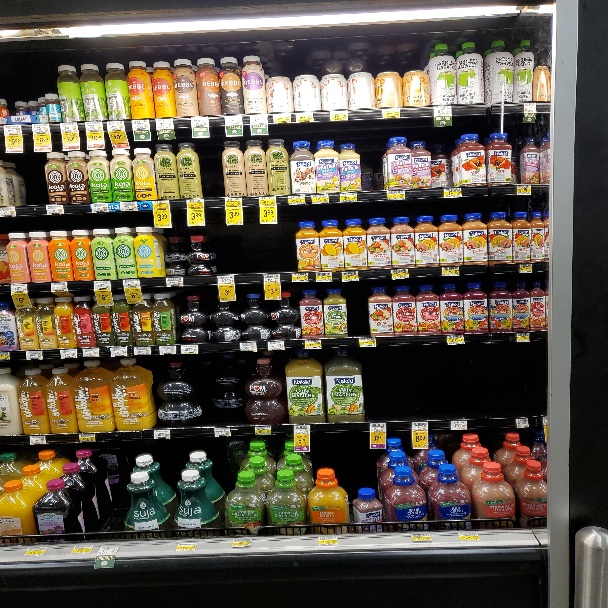All PRICE TAGS: (175, 542, 197, 553), (230, 539, 253, 549), (315, 535, 339, 544), (97, 545, 118, 555), (433, 105, 452, 115), (458, 532, 479, 541), (191, 117, 209, 127), (28, 546, 44, 557), (155, 119, 174, 128), (130, 120, 149, 129), (84, 121, 103, 130), (106, 120, 125, 129), (250, 114, 267, 124), (411, 532, 432, 540), (186, 198, 204, 207), (120, 202, 138, 211), (225, 116, 243, 125), (73, 545, 91, 554), (60, 122, 78, 131), (12, 283, 28, 293), (412, 421, 429, 430), (239, 342, 256, 351), (181, 344, 198, 353), (391, 269, 408, 278), (315, 271, 332, 280), (263, 273, 280, 282), (274, 113, 291, 122), (446, 335, 464, 343), (305, 339, 321, 348), (342, 271, 358, 280), (289, 195, 305, 204), (382, 108, 400, 116), (330, 111, 348, 119), (295, 112, 313, 120), (450, 421, 467, 429), (254, 426, 271, 434), (214, 427, 231, 435), (29, 436, 46, 444), (60, 349, 77, 357), (291, 272, 308, 280), (217, 275, 234, 283), (166, 277, 183, 285), (444, 189, 461, 197), (388, 191, 405, 199), (340, 193, 357, 201), (92, 204, 109, 212), (46, 205, 63, 213), (32, 124, 49, 132), (294, 425, 309, 434), (523, 103, 538, 112), (359, 338, 375, 346), (159, 345, 175, 353), (134, 346, 150, 354), (111, 347, 127, 355), (26, 351, 42, 359), (443, 267, 459, 275), (124, 279, 140, 287), (95, 281, 111, 289), (51, 282, 67, 290), (516, 419, 530, 428), (371, 423, 386, 431), (154, 430, 169, 438), (269, 341, 284, 349), (225, 197, 240, 205), (261, 196, 274, 205), (517, 333, 531, 341), (517, 186, 531, 194), (79, 434, 95, 441), (7, 125, 21, 133), (520, 264, 532, 273), (1, 207, 13, 216), (83, 349, 98, 356), (154, 201, 169, 208), (0, 352, 10, 360)
